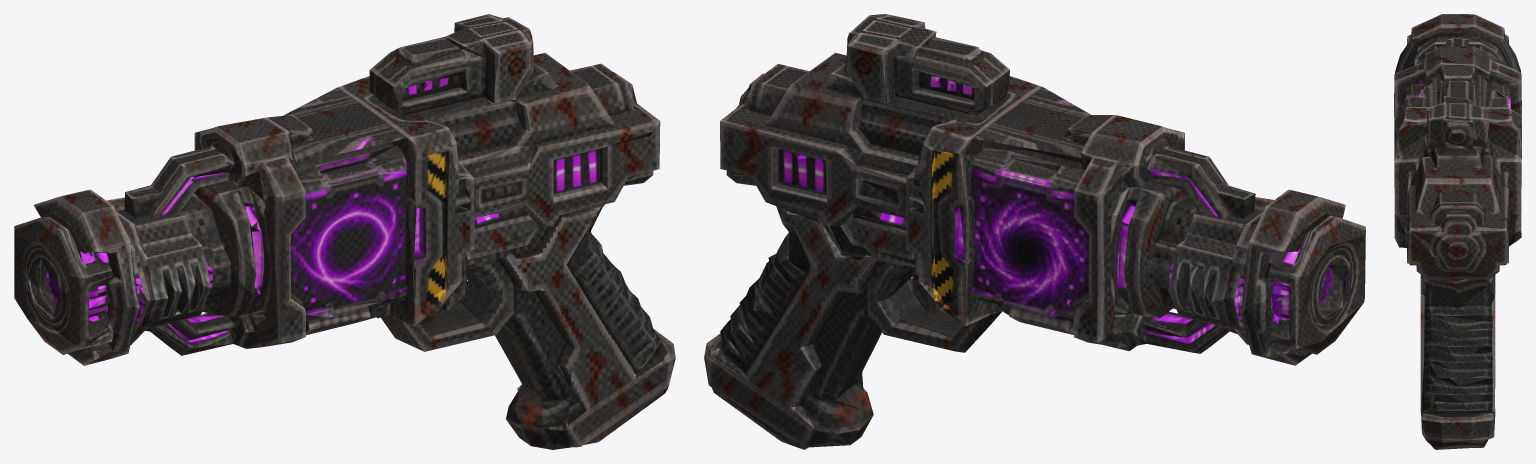
File: Meshy_AI_black_hole_pistol_low_1018143315_texture.fbx
The picture shows the model from 3 angles, left to right: view 1: azimuth 30°, elevation 25°; view 2: azimuth 150°, elevation 25°; view 3: azimuth 270°, elevation 25°; orthographic projection. The views are drawn at different scales.
Parts seen in each view (by area): view 1: output_unwrapped; view 2: output_unwrapped; view 3: output_unwrapped.
Boxes of the visible parts, x1,y1,x2,y2 form: output_unwrapped: (14,14,675,449); output_unwrapped: (704,14,1365,449); output_unwrapped: (1394,14,1521,449).
Bounding box in the file's own units: 190 × 124 × 46.73.
1 material, 1 textured.
